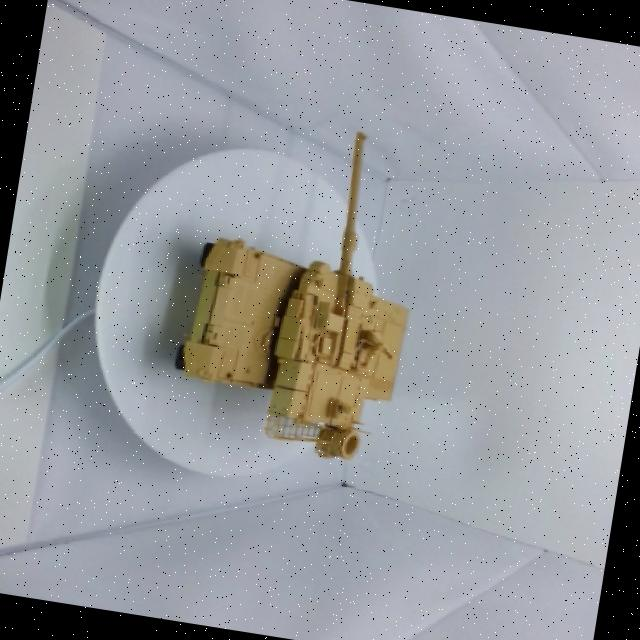korea tank: (128, 87, 478, 507)
